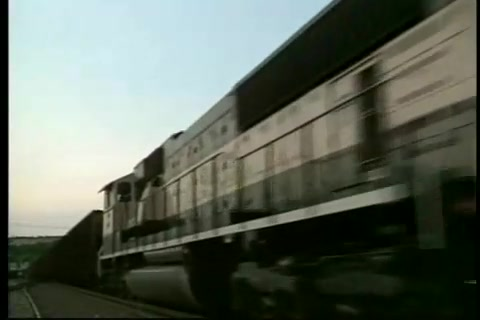train: (96, 1, 480, 319)
